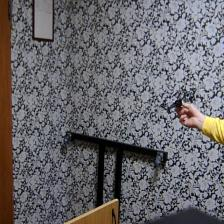drone: (158, 88, 198, 114)
